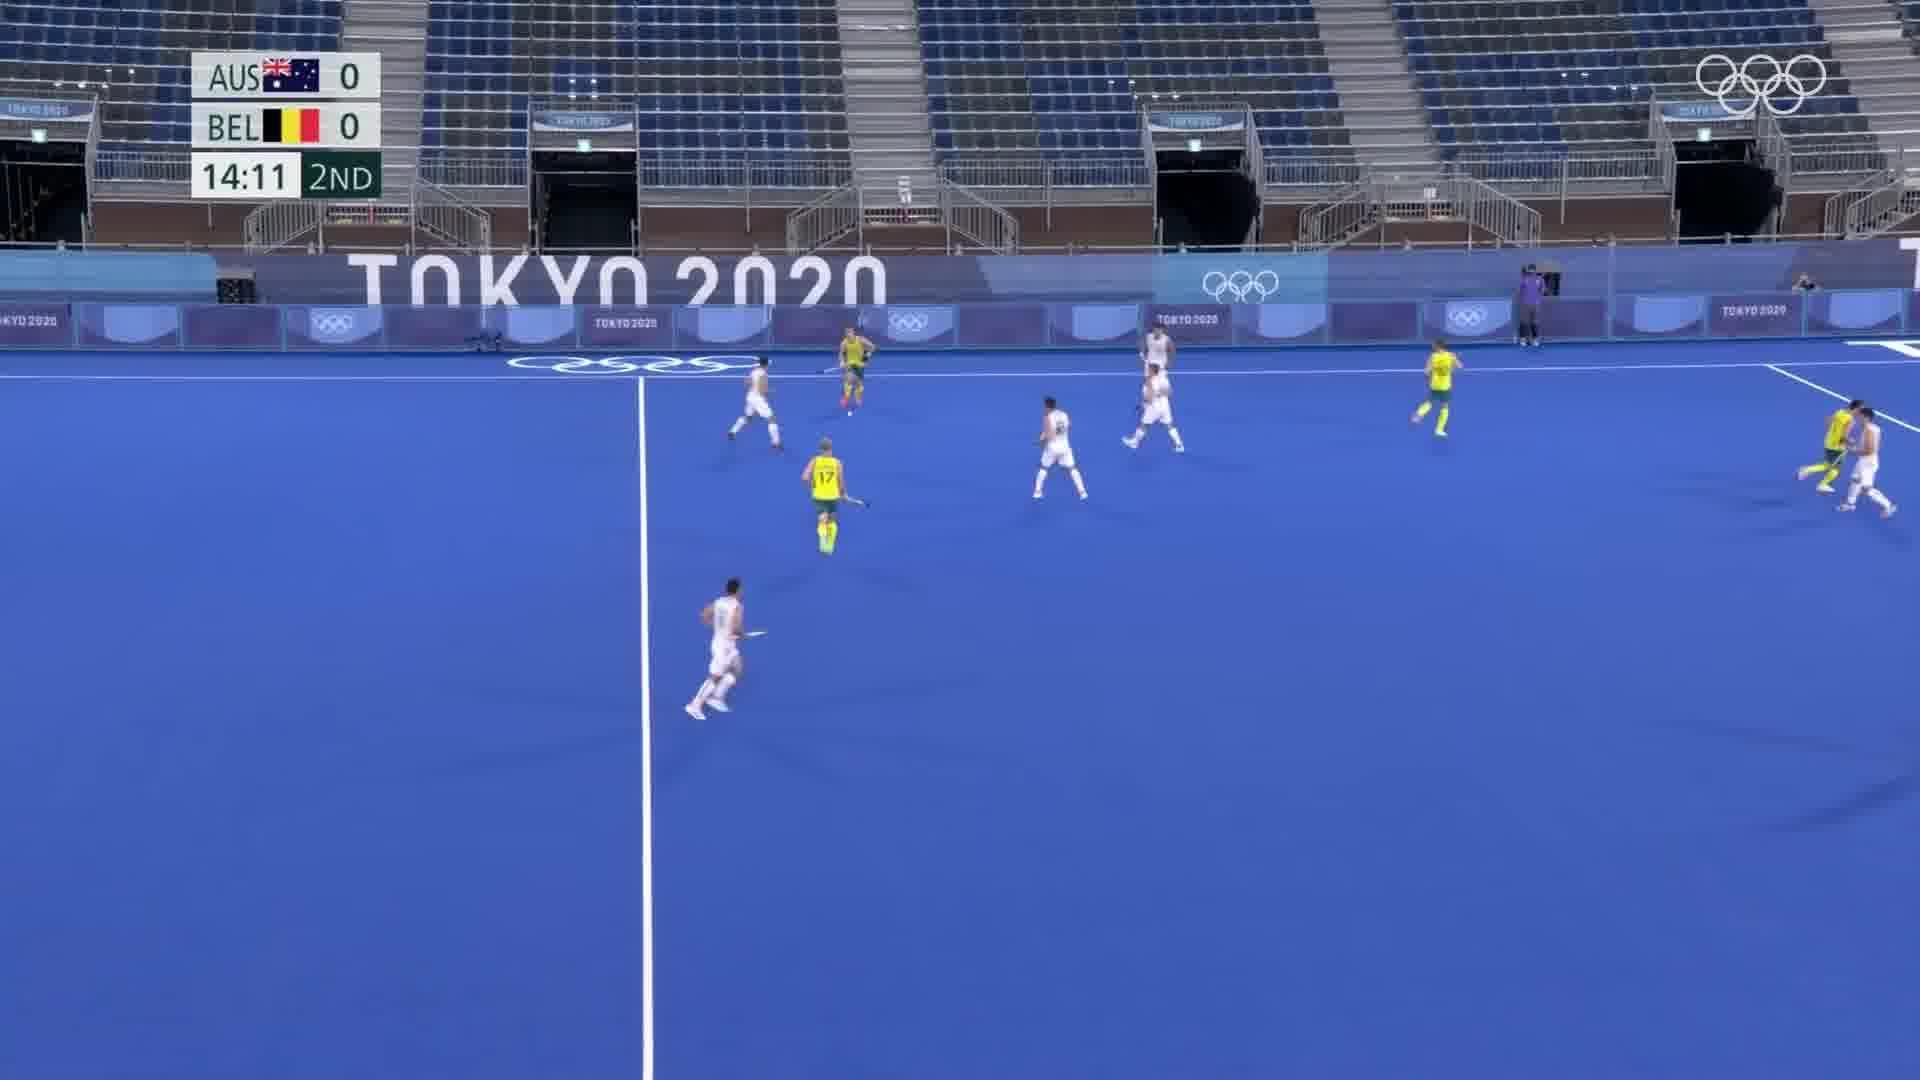ball: (843, 402, 861, 426)
